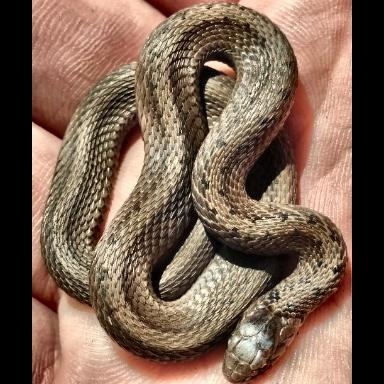snake: (34, 0, 350, 384)
